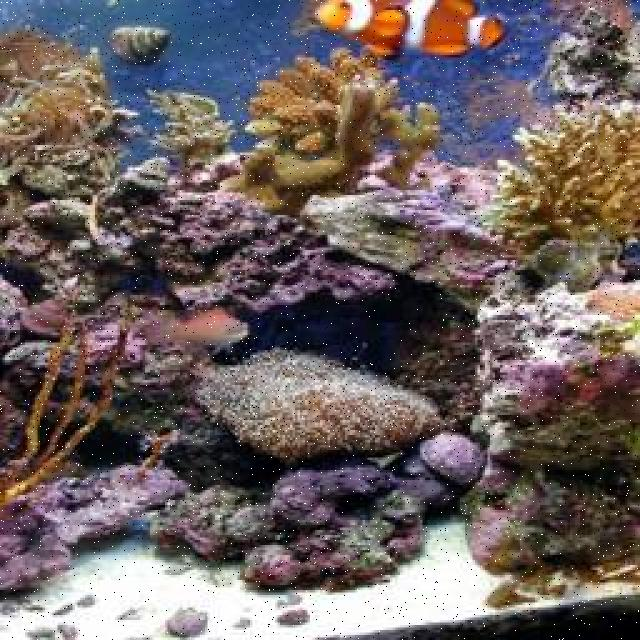fish: (315, 0, 508, 62), (158, 304, 247, 356)
reefs: (464, 280, 638, 576), (144, 455, 467, 587), (203, 348, 443, 457), (473, 96, 638, 250), (0, 460, 190, 589), (0, 315, 131, 502), (218, 77, 383, 219), (0, 41, 148, 176), (240, 48, 400, 155), (144, 86, 239, 162), (376, 102, 442, 193), (421, 431, 487, 484), (136, 425, 182, 472), (110, 26, 170, 62)
